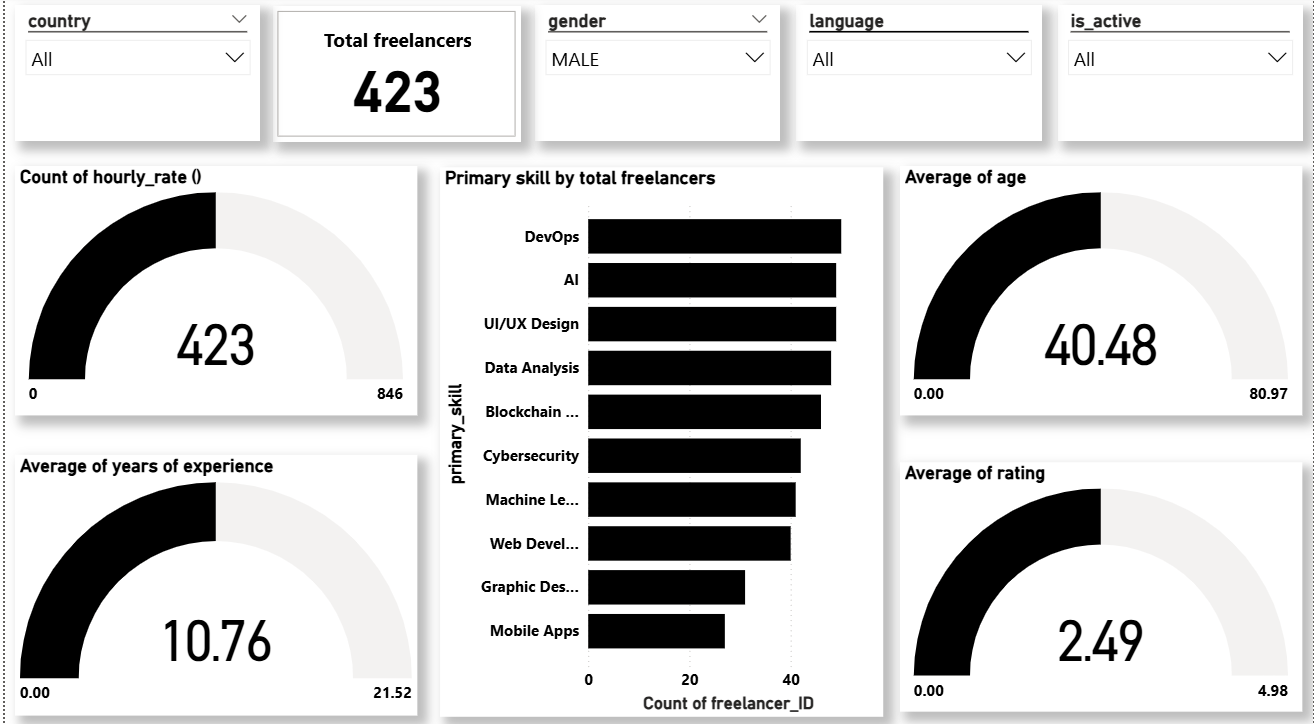

The page's visual inventory and layout, read from the dashboard file:
{"tool":"powerbi","page":{"name":"Page 1","canvas":[1280,720],"ordinal":0},"visuals":[{"type":"cardVisual","fields":{"Data":["CountNonNull(Global Freelancers Dataset.freelancer_ID)"]},"box":[262.1,10,243,133.1],"z":0},{"type":"slicer","fields":{"Values":["Global Freelancers Dataset.country"]},"box":[9.6,8.2,240.1,133.1],"z":1000},{"type":"slicer","fields":{"Values":["Global Freelancers Dataset.gender"]},"box":[518.7,8.2,240.1,133.1],"z":2000},{"type":"slicer","fields":{"Values":["Global Freelancers Dataset.language"]},"box":[773.9,8.2,240.1,133.1],"z":3000},{"type":"slicer","fields":{"Values":["Global Freelancers Dataset.is_active"]},"box":[1029.2,8.2,240.1,133.1],"z":4000},{"type":"clusteredBarChart","title":" Primary skill by total freelancers","fields":{"Category":["Global Freelancers Dataset.primary_skill"],"Y":["CountNonNull(Global Freelancers Dataset.freelancer_ID)"]},"box":[425.4,167.4,433.6,537.9],"z":5000},{"type":"gauge","fields":{"Y":["CountNonNull(Global Freelancers Dataset.hourly_rate ())"]},"box":[10,166.8,393.4,243.7],"z":6000},{"type":"gauge","fields":{"Y":["Avg(Global Freelancers Dataset.years_of_experience)"]},"box":[10,449,393.4,255.1],"z":7000},{"type":"gauge","fields":{"Y":["Avg(Global Freelancers Dataset.age)"]},"box":[875.2,166.8,393.4,243.7],"z":7001},{"type":"gauge","fields":{"Y":["Avg(Global Freelancers Dataset.rating)"]},"box":[875.2,456.1,393.4,243.7],"z":7004}]}

Visuals, with their boxes in screenshot pixels (x1, y1, x2, y2), scaled from the page's 1280x720 canvas onto the 1314x724 screenshot:
cardVisual - CountNonNull(Global Freelancers Dataset.freelancer_ID): pyautogui.locateOnScreen(269, 10, 519, 144)
slicer - Global Freelancers Dataset.country: pyautogui.locateOnScreen(10, 8, 256, 142)
slicer - Global Freelancers Dataset.gender: pyautogui.locateOnScreen(532, 8, 779, 142)
slicer - Global Freelancers Dataset.language: pyautogui.locateOnScreen(794, 8, 1041, 142)
slicer - Global Freelancers Dataset.is_active: pyautogui.locateOnScreen(1057, 8, 1303, 142)
" Primary skill by total freelancers" clusteredBarChart: pyautogui.locateOnScreen(437, 168, 882, 709)
gauge - CountNonNull(Global Freelancers Dataset.hourly_rate ()): pyautogui.locateOnScreen(10, 168, 414, 413)
gauge - Avg(Global Freelancers Dataset.years_of_experience): pyautogui.locateOnScreen(10, 451, 414, 708)
gauge - Avg(Global Freelancers Dataset.age): pyautogui.locateOnScreen(898, 168, 1302, 413)
gauge - Avg(Global Freelancers Dataset.rating): pyautogui.locateOnScreen(898, 459, 1302, 704)
